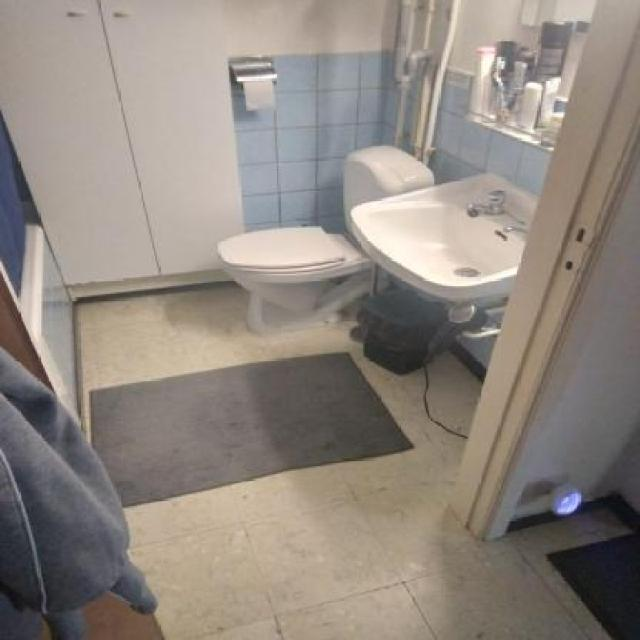floor: (73, 283, 640, 639)
